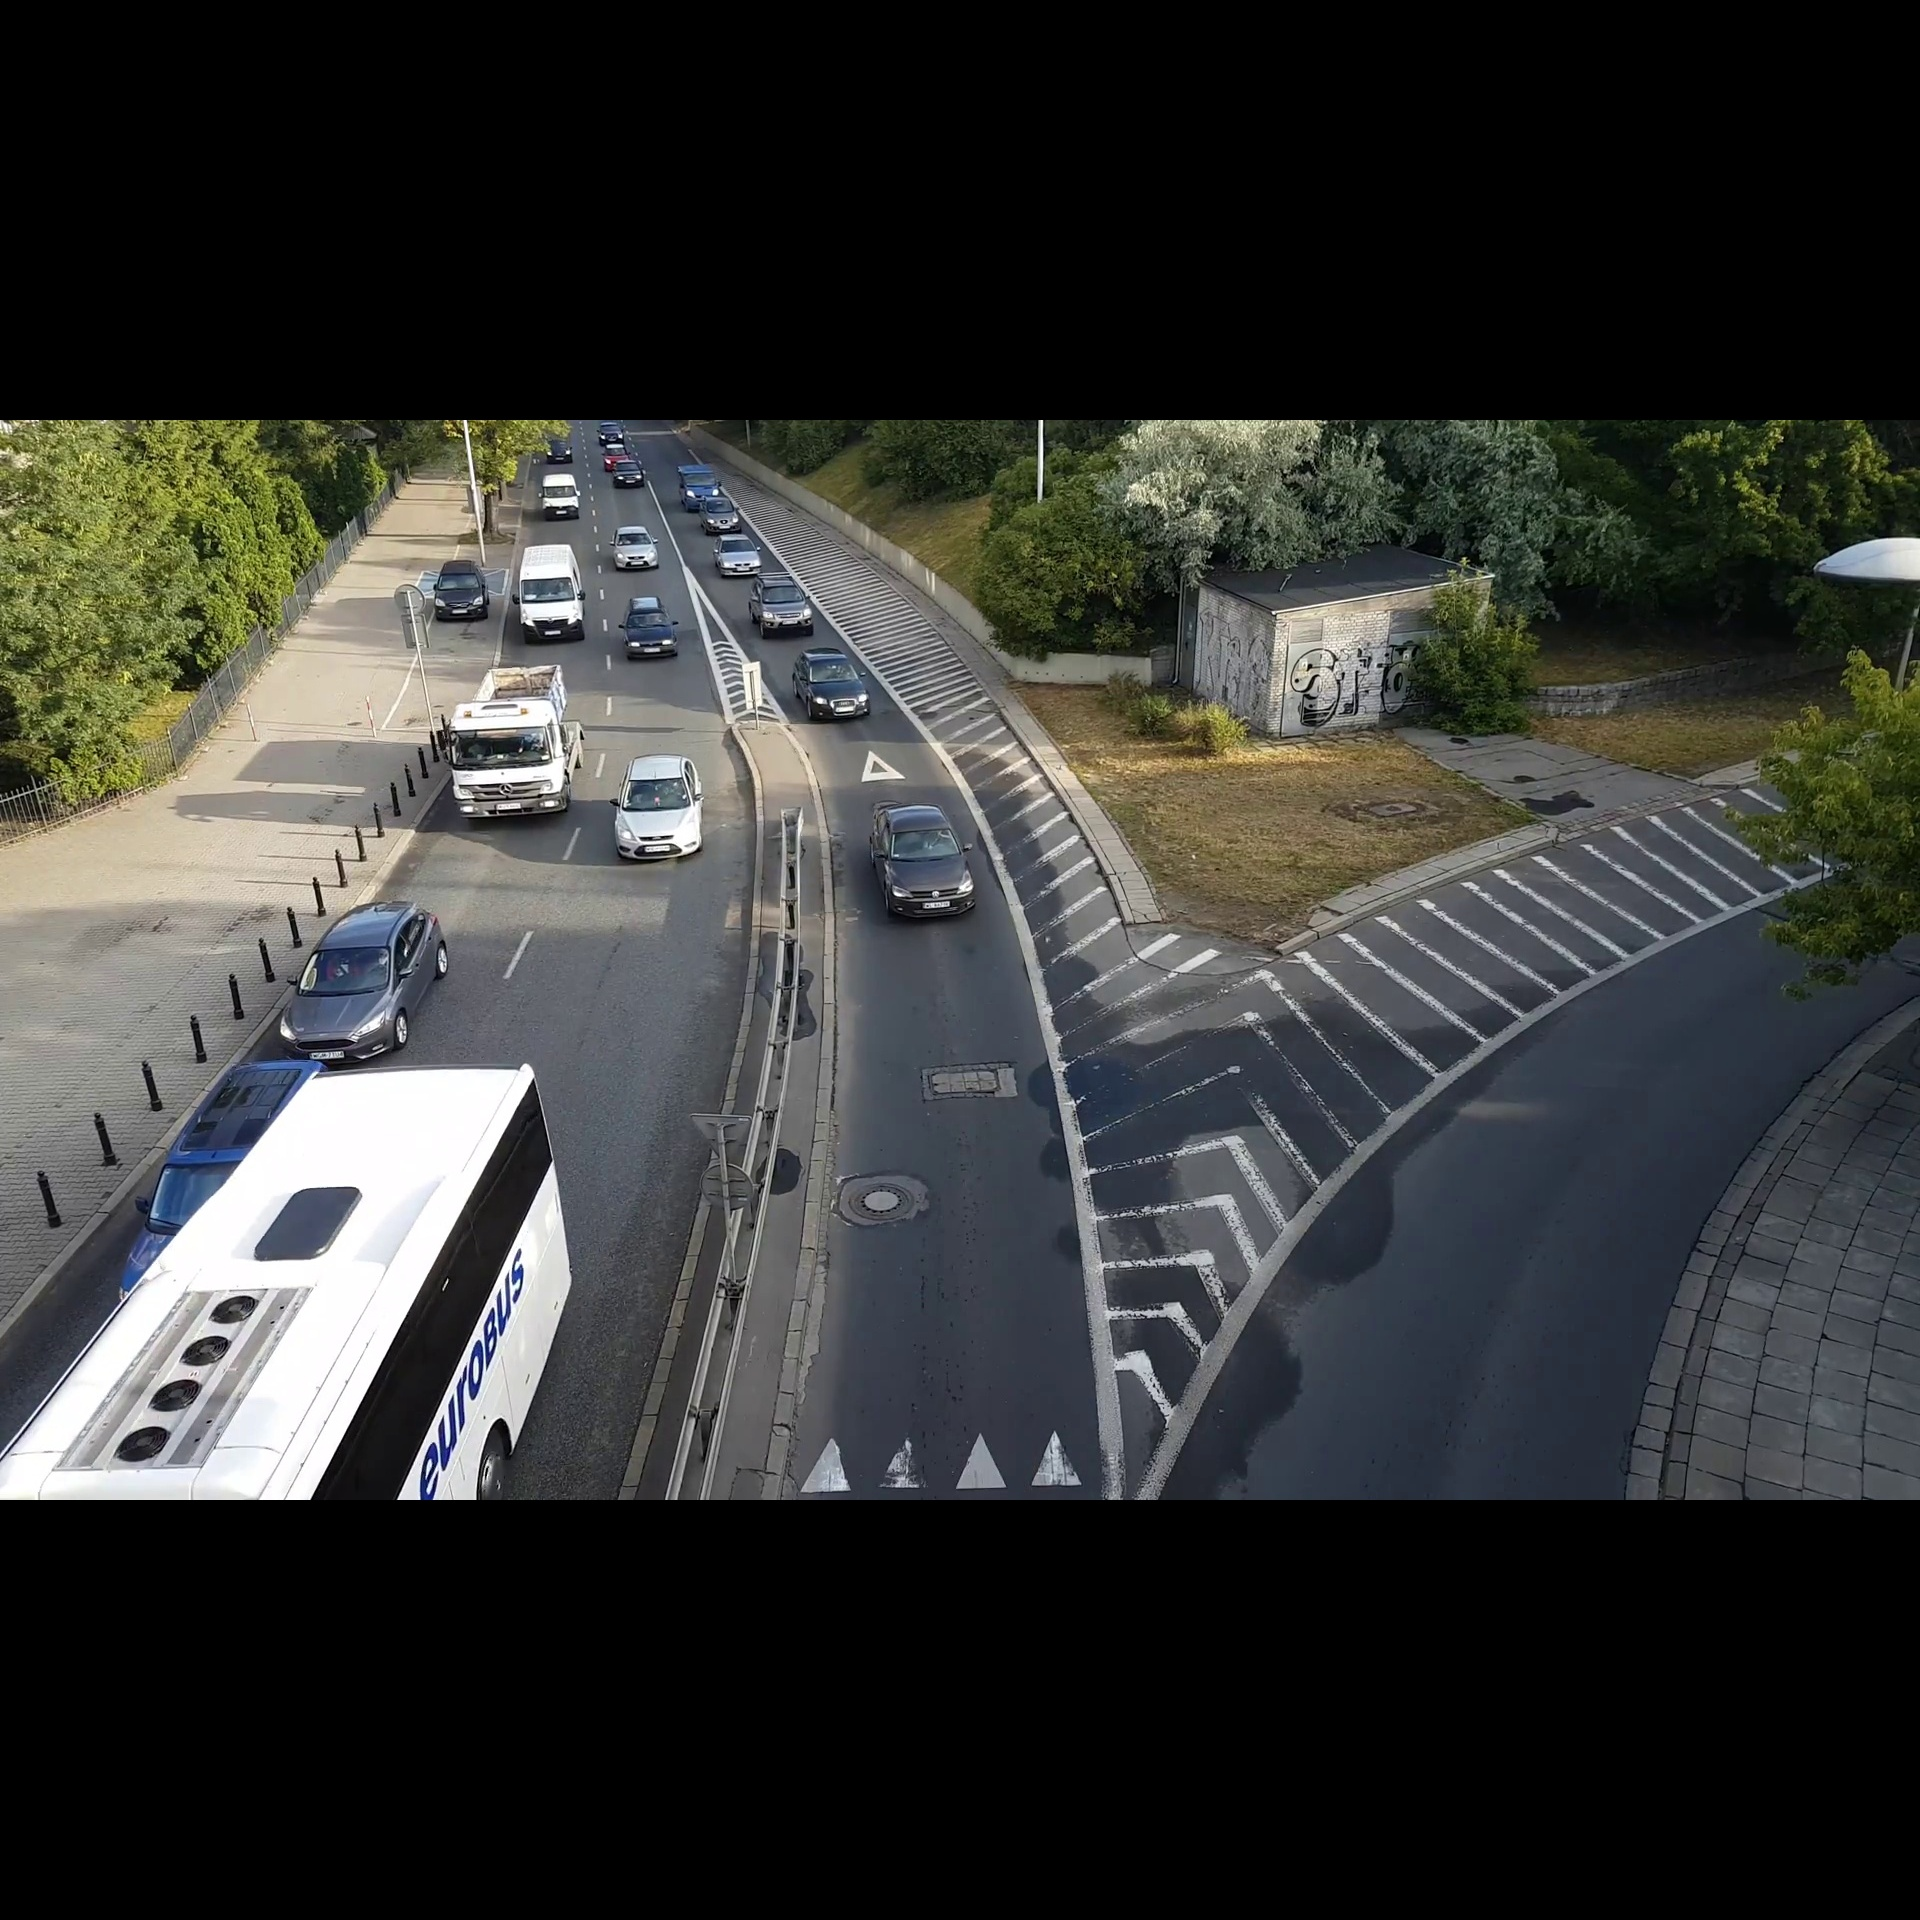vehicle: (2, 1048, 589, 1500), (105, 1044, 329, 1324), (274, 895, 454, 1076), (441, 658, 593, 830), (860, 789, 978, 925), (607, 747, 707, 872), (505, 540, 594, 651), (788, 642, 877, 730), (745, 570, 819, 642), (425, 554, 492, 629), (617, 593, 680, 668), (607, 519, 659, 577), (712, 533, 761, 584), (536, 471, 580, 522), (673, 462, 721, 501), (696, 498, 742, 533), (612, 461, 649, 489), (545, 433, 573, 466), (594, 420, 624, 445), (603, 445, 629, 462)
